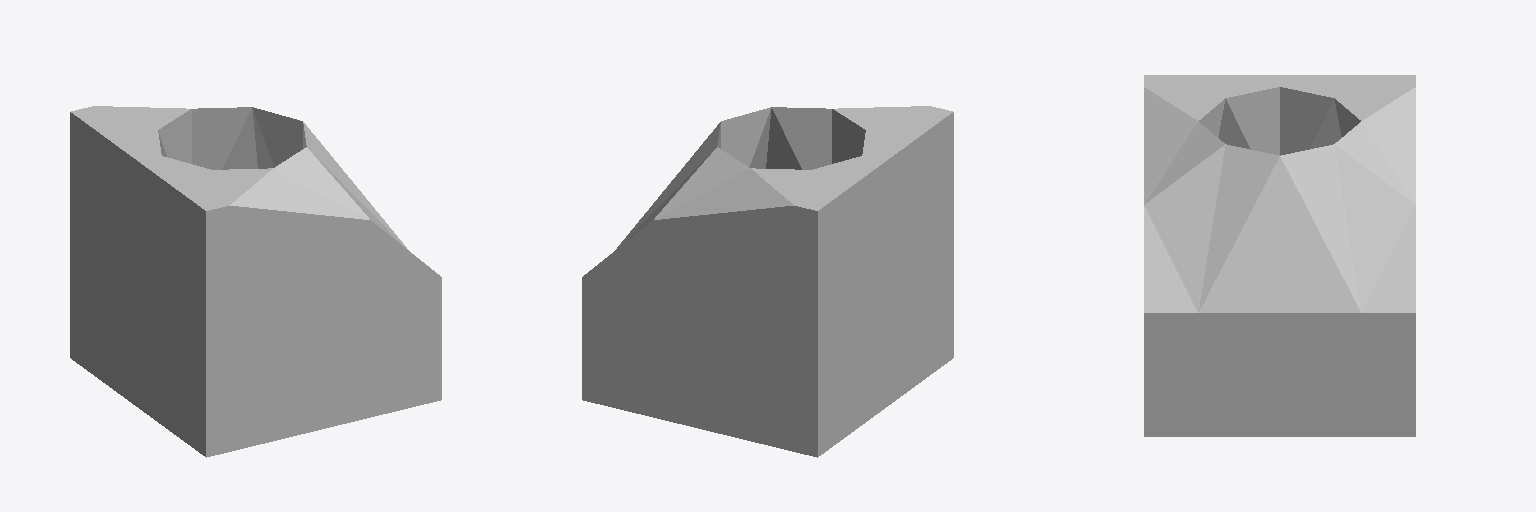
3 views of the same model, side by side, from view 1: azimuth 30°, elevation 25°; view 2: azimuth 150°, elevation 25°; view 3: azimuth 270°, elevation 25° (orthographic).
Parts seen in each view (by area): view 1: BASE_mesh; view 2: BASE_mesh; view 3: BASE_mesh.
Boxes of the visible parts, x1,y1,x2,y2 form: BASE_mesh: [70, 106, 441, 457]; BASE_mesh: [582, 106, 953, 457]; BASE_mesh: [1144, 75, 1415, 436].
Size of the model in its own units: 1 by 1 by 1.